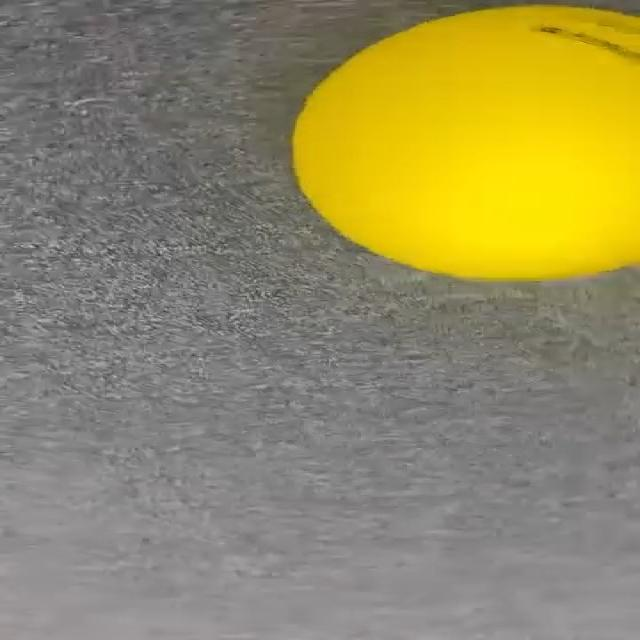Fuels: (293, 1, 640, 286)
